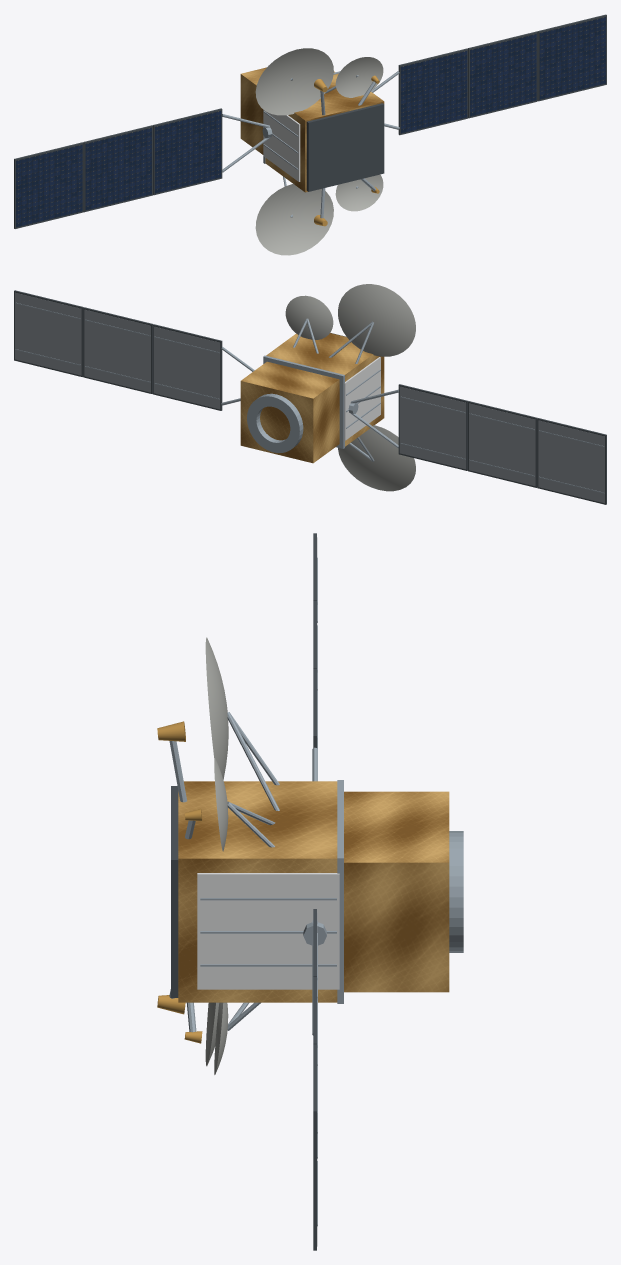
File: ref-luxor-57213.glb
The picture shows the model from 3 angles, top to bottom: view 1: azimuth 30°, elevation 25°; view 2: azimuth 150°, elevation 25°; view 3: azimuth 270°, elevation 25°; orthographic projection. The views are drawn at different scales.
Parts seen in each view (by area): view 1: Solar cell panel (×6), Communications reflector (×4), Earth-facing deck, Solar panel frame (×6), Payload module, Radiator face, Service module; view 2: Rear array substrate (×6), Communications reflector (×3), Service module, Solar panel frame (×6), Payload module, Radiator face, Launch adapter ring, Module interface; view 3: Service module, Payload module, Radiator face, Communications reflector, Launch adapter ring, Earth-facing deck, Module interface.
Part boxes in pixels (x1,y1,x2,y2): Solar cell panel (×6): (16,17,605,227); Communications reflector (×4): (255,48,383,255); Earth-facing deck: (306,103,384,191); Solar panel frame (×6): (14,14,606,228); Payload module: (265,73,384,192); Radiator face: (263,110,300,181); Service module: (240,67,334,154); Rear array substrate (×6): (15,292,604,503); Communications reflector (×3): (285,284,415,491); Service module: (240,361,339,463); Solar panel frame (×6): (14,290,606,504); Payload module: (266,333,384,446); Radiator face: (344,357,380,440); Launch adapter ring: (247,393,303,452); Module interface: (263,355,344,448); Service module: (344,791,449,992); Payload module: (178,781,337,1002); Radiator face: (197,873,339,989); Communications reflector: (205,637,228,779); Launch adapter ring: (449,831,463,952); Earth-facing deck: (171,786,178,997); Module interface: (337,780,343,1003).
Bounding box in the file's own units: 14.98 × 4.95 × 3.35.
Materials: 8 (2 with a texture image).
